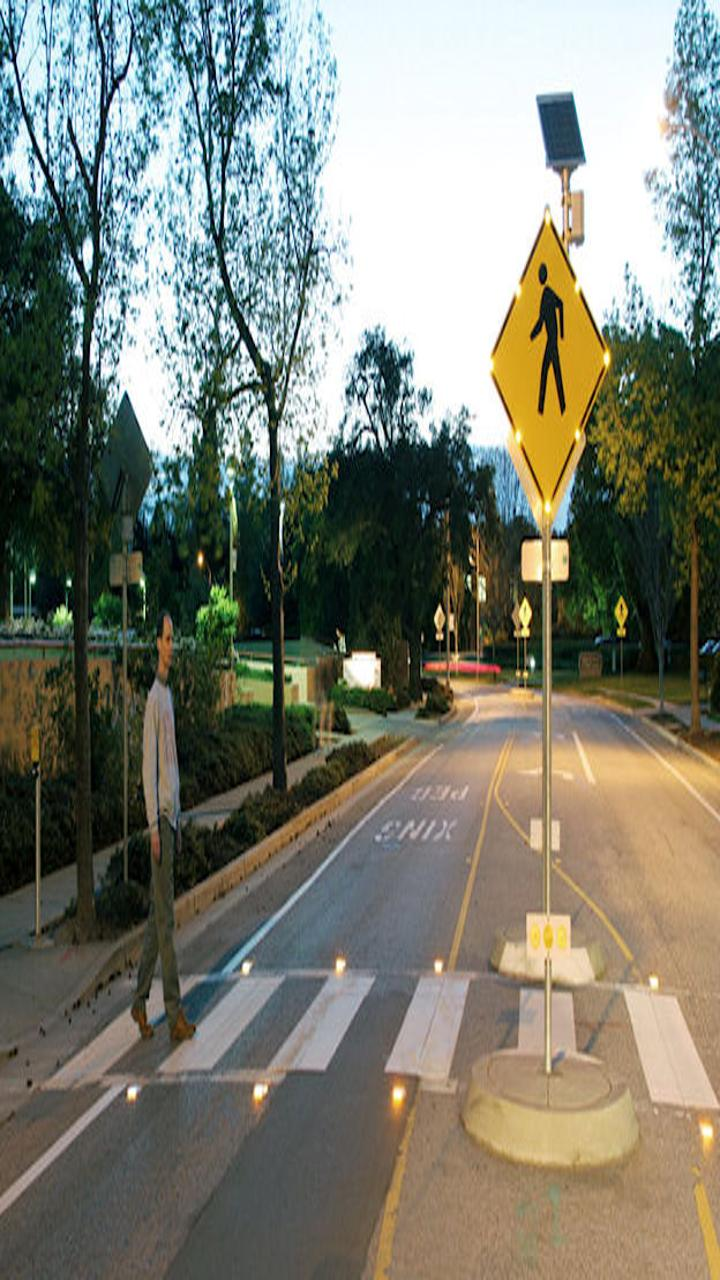Traffic sign: (463, 71, 639, 545)
pedestrian: (110, 607, 218, 1059)
